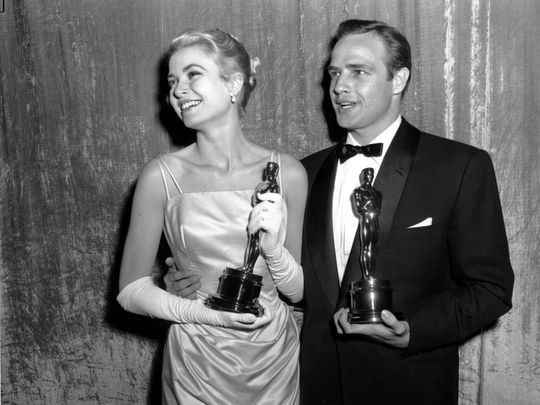hand: (336, 310, 414, 335)
